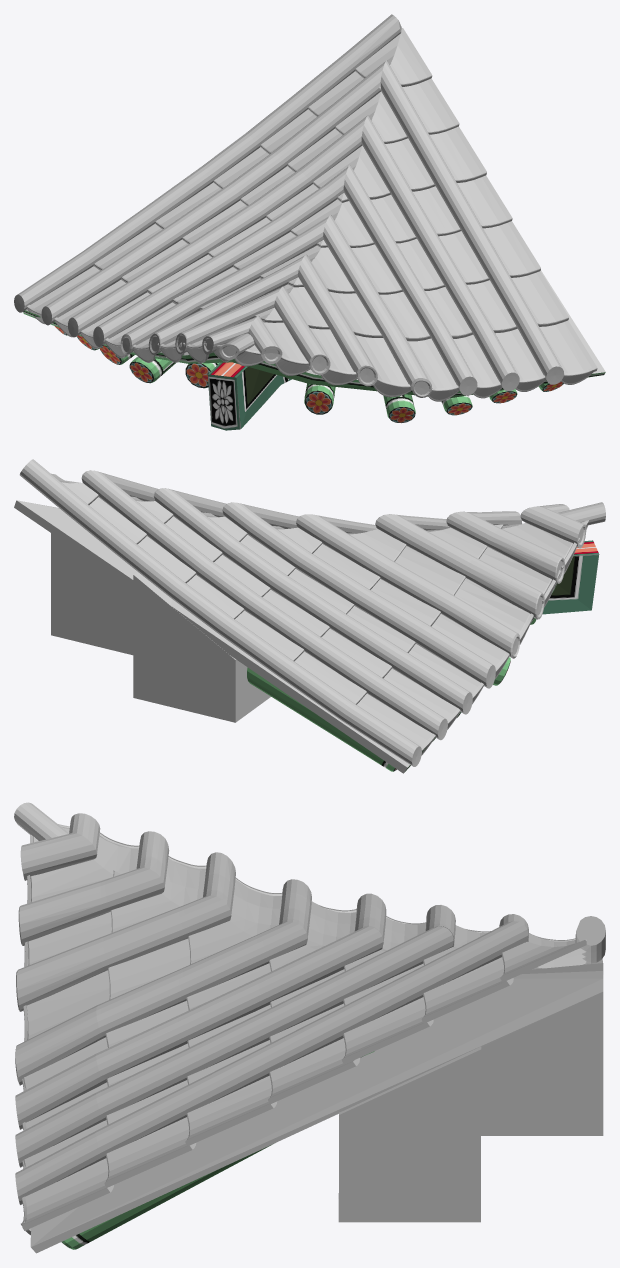
Rendered from SM_R_RoofCorner_8.fbx.
The picture shows the model from 3 angles, top to bottom: view 1: azimuth 30°, elevation 25°; view 2: azimuth 150°, elevation 25°; view 3: azimuth 270°, elevation 25°; orthographic projection. The views are drawn at different scales.
Visible parts, largest first — view 1: SM_R_RoofCorner_8_LOD0; view 2: SM_R_RoofCorner_8_LOD0; view 3: SM_R_RoofCorner_8_LOD0.
Part boxes in pixels (x1,y1,x2,y2): SM_R_RoofCorner_8_LOD0: (14, 14, 605, 430); SM_R_RoofCorner_8_LOD0: (14, 459, 605, 773); SM_R_RoofCorner_8_LOD0: (14, 802, 605, 1253).
Bounding box in the file's own units: 297 × 267 × 173.
